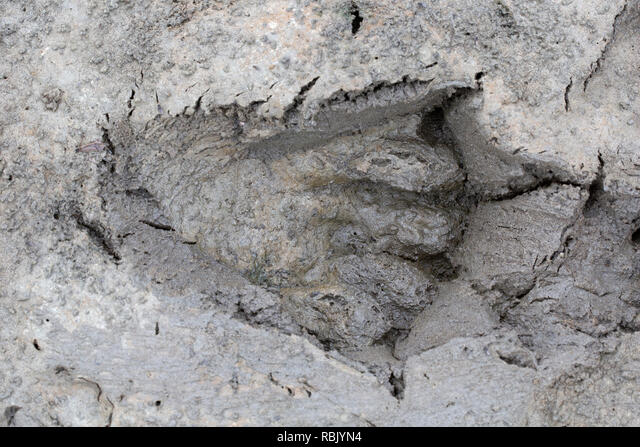beaver: (60, 74, 510, 381)
